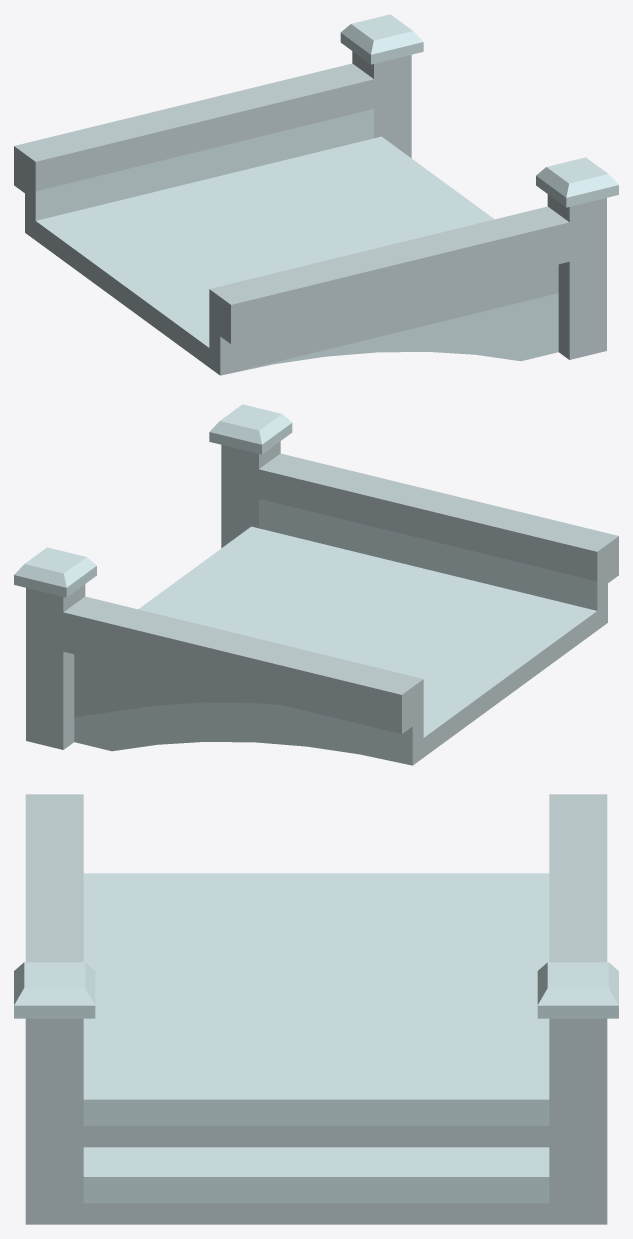
File: bridge_side_stoneRound.gltf
The picture shows the model from 3 angles, top to bottom: view 1: azimuth 30°, elevation 25°; view 2: azimuth 150°, elevation 25°; view 3: azimuth 270°, elevation 25°; orthographic projection. The views are drawn at different scales.
Parts seen in each view (by area): view 1: bridge_side_stoneRound; view 2: bridge_side_stoneRound; view 3: bridge_side_stoneRound.
Part boxes in pixels (x1,y1,x2,y2): bridge_side_stoneRound: [14, 14, 618, 375]; bridge_side_stoneRound: [14, 404, 618, 765]; bridge_side_stoneRound: [14, 794, 618, 1224].
Bounding box in the file's own units: 1.02 × 0.45 × 1.04.
